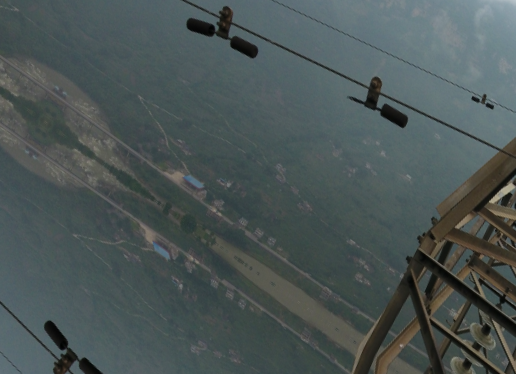damper: (185, 5, 261, 61), (470, 92, 496, 109)
damper_defect: (345, 75, 410, 129)
